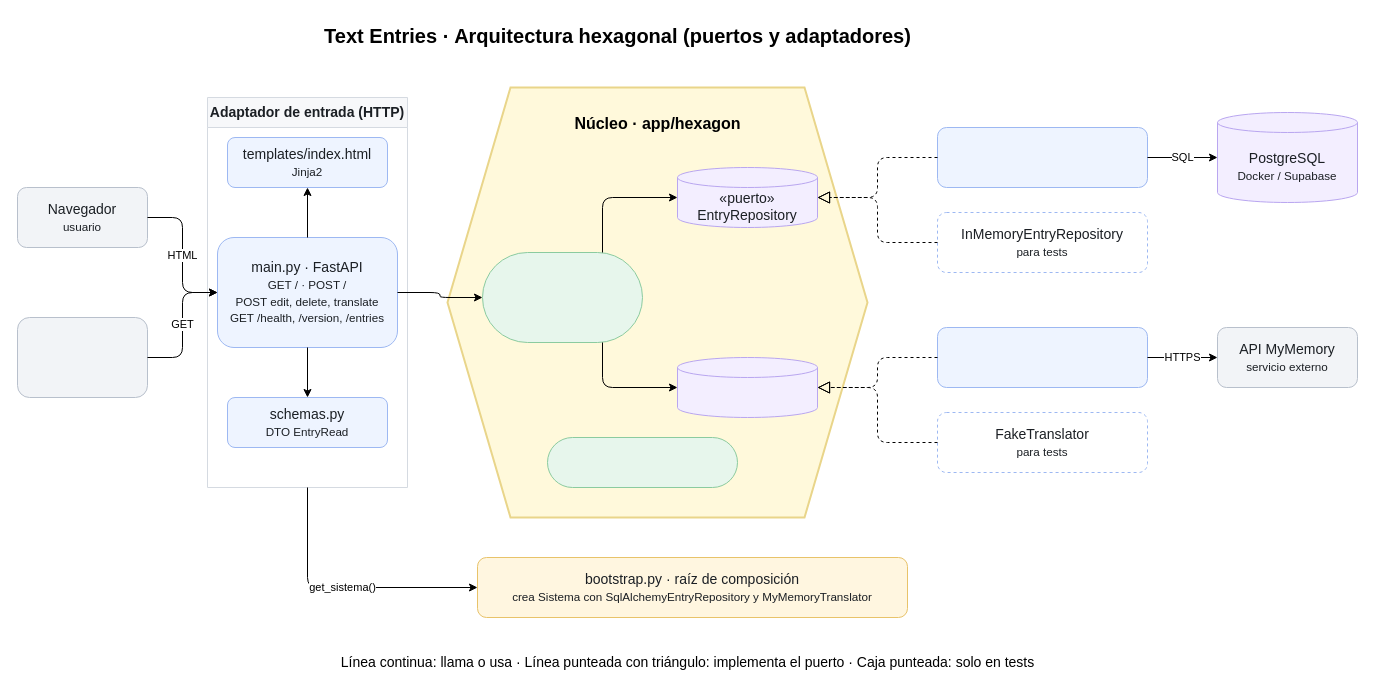
Some shapes in this 1375 by 694 pixel diagram are drawn without their labels. The centre of each missing label's shape, as x and y in pixels:
"Entry · errores objetos de dominio" goes at point (642, 462).
"MyMemoryTranslator httpx · timeout 5 s" goes at point (1042, 357).
"Sistema (fachada) crear · listar · modificar eliminar · traducir" goes at point (562, 297).
"Smoke test y health check verifican el despliegue" goes at point (82, 357).
"SqlAlchemyEntryRepository models.py · Alembic" goes at point (1042, 157).
"«puerto» Translator" goes at point (747, 387).
